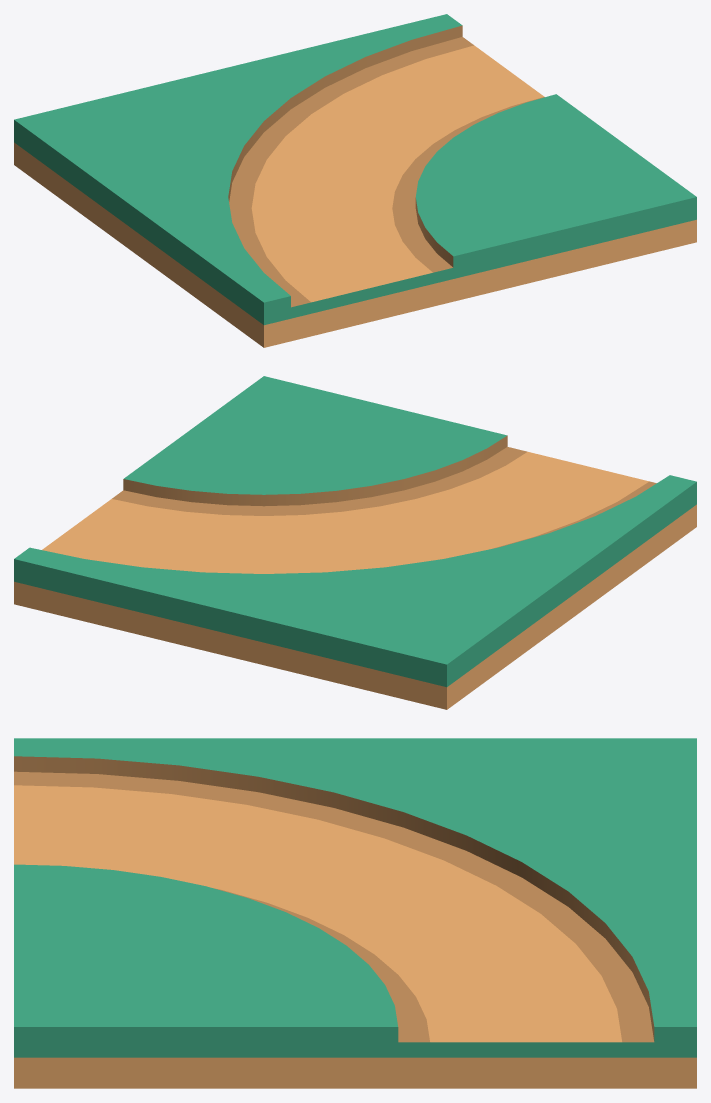
File: tile_corner_TopRight Variant.fbx
3 views of the same model, one above another, from view 1: azimuth 30°, elevation 25°; view 2: azimuth 150°, elevation 25°; view 3: azimuth 270°, elevation 25° (orthographic). The views are drawn at different scales.
Visible parts, largest first — view 1: tile_corner_TopRight_Variant; view 2: tile_corner_TopRight_Variant; view 3: tile_corner_TopRight_Variant.
Boxes of the visible parts, box(x1,y1,x2,y2) form: tile_corner_TopRight_Variant: box(14, 14, 696, 347); tile_corner_TopRight_Variant: box(14, 376, 696, 709); tile_corner_TopRight_Variant: box(14, 738, 696, 1088).
Size of the model in its own units: 200 by 20 by 200.
